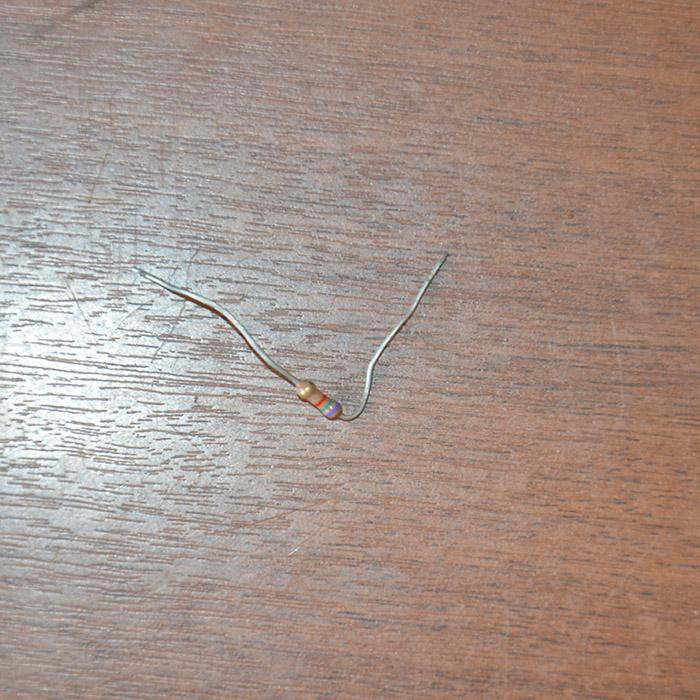resistor: (295, 378, 339, 419)
